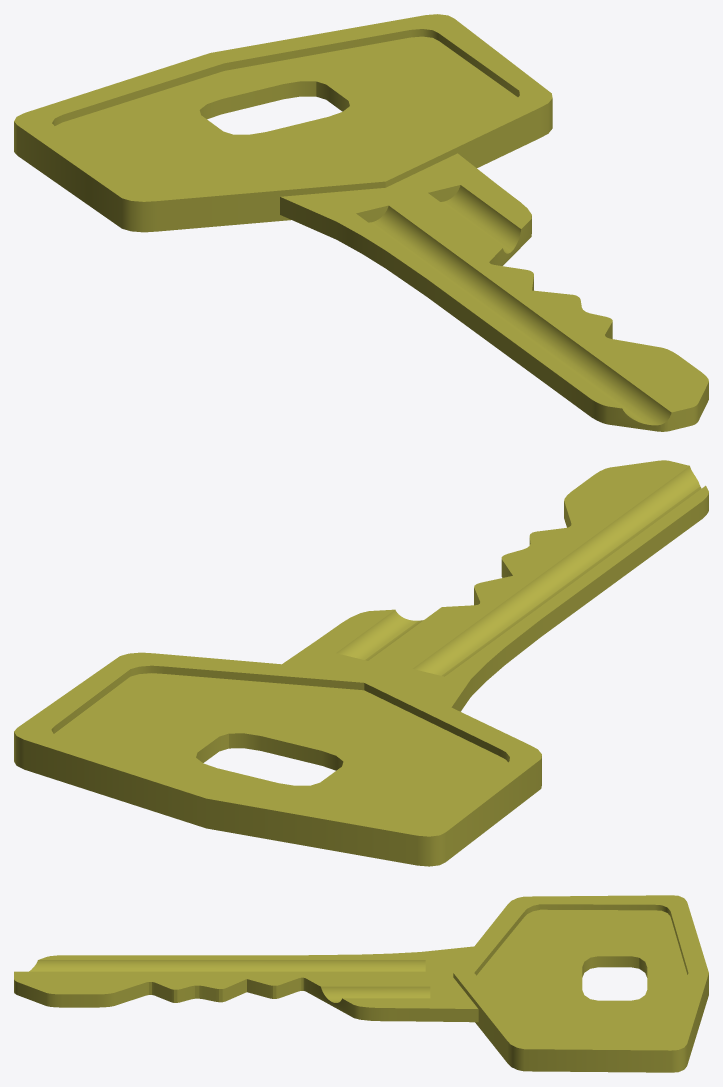
The model's file is key3_yellow.fbx.
The picture shows the model from 3 angles, top to bottom: view 1: azimuth 30°, elevation 25°; view 2: azimuth 150°, elevation 25°; view 3: azimuth 270°, elevation 25°; orthographic projection. The views are drawn at different scales.
Visible parts, largest first — view 1: key3; view 2: key3; view 3: key3.
Boxes of the visible parts, x1,y1,x2,y2 form: key3: (14,14,708,431); key3: (14,460,708,866); key3: (14,895,708,1072).
Size of the model in its own units: 47.76 by 3.18 by 90.35.
